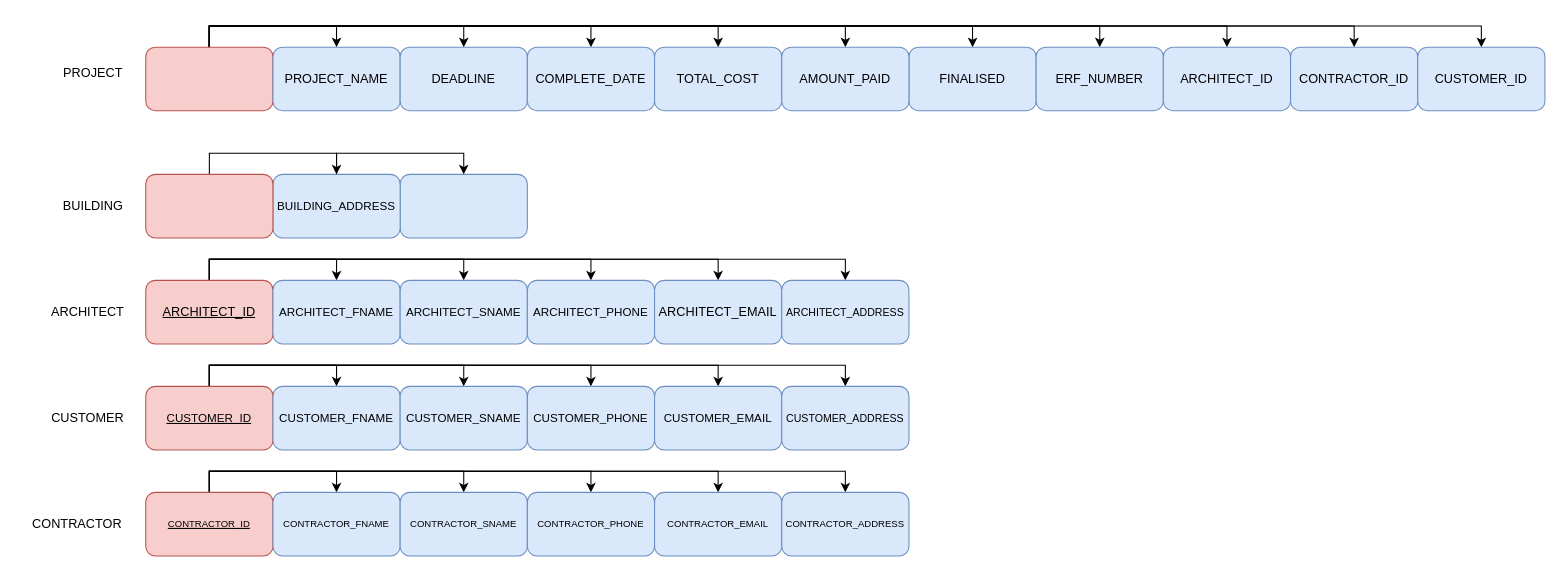
Some shapes in this 1563 by 575 pixel diagram are drawn without their labels. Here are the shapes that lost their labels. From the top down, the box of each, then its label:
(145, 46, 273, 111): PROJECT_NUM
(145, 173, 273, 238): ERF_NUM
(399, 173, 527, 238): BUILDING_TYPE
